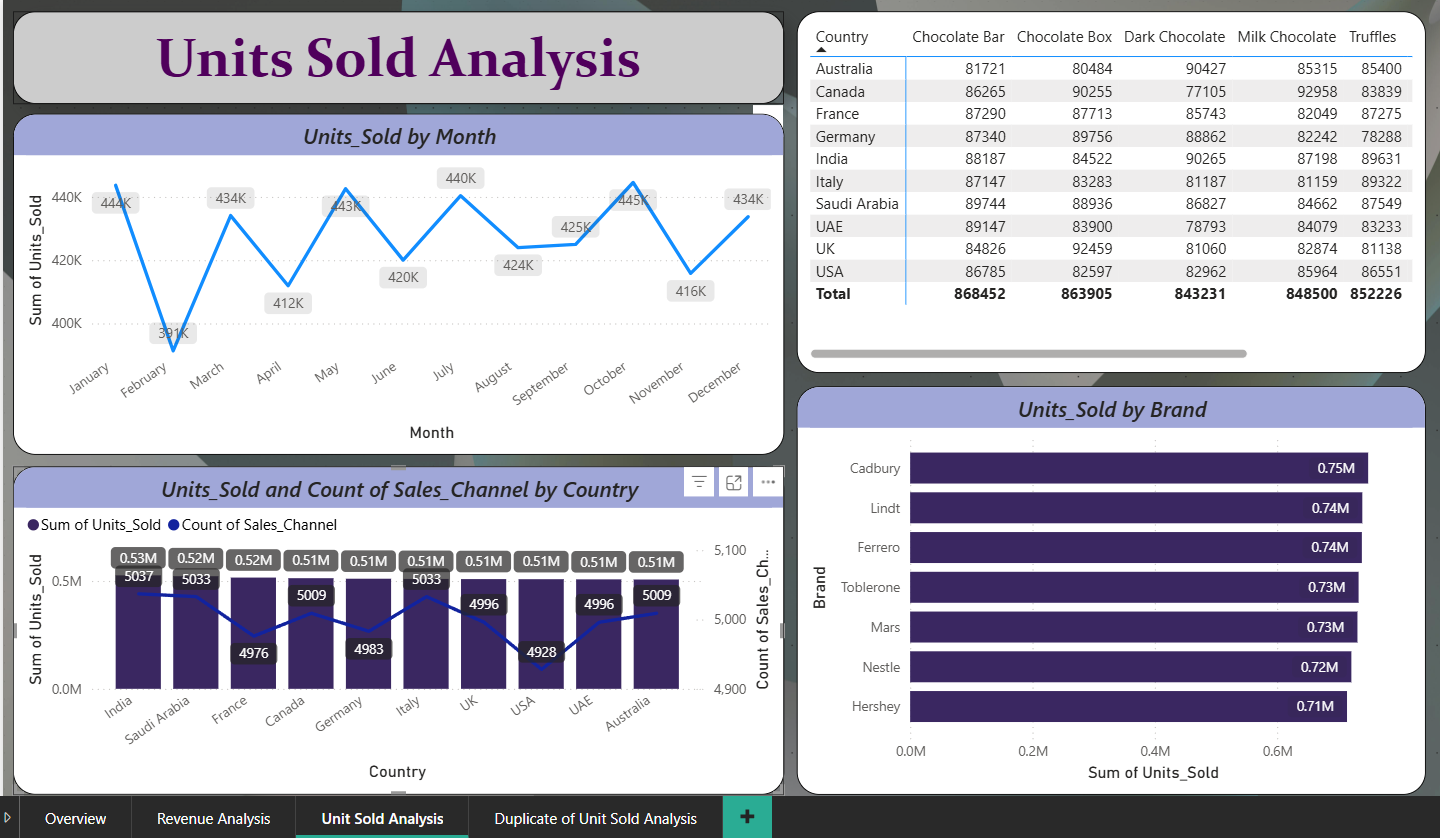

The page's visual inventory and layout, read from the dashboard file:
{"tool":"powerbi","page":{"name":"Unit Sold Analysis","canvas":[1280,720],"ordinal":2},"visuals":[{"type":"textbox","box":[8.6,9.8,685.5,82.5],"z":0},{"type":"barChart","title":"Units_Sold by Brand","fields":{"Category":["chocolate_sales_50000.Brand"],"Y":["Sum(chocolate_sales_50000.Units_Sold)"]},"box":[705.4,343.7,559.3,363.1],"z":2000},{"type":"lineChart","title":"Units_Sold by Month","fields":{"Y":["Sum(chocolate_sales_50000.Units_Sold)"],"Category":["chocolate_sales_50000.Date.Variation.Date Hierarchy.Month"]},"box":[8.3,101.6,685.9,303.3],"z":3000},{"type":"lineStackedColumnComboChart","title":"Units_Sold and Count of Sales_Channel by Country","fields":{"Category":["chocolate_sales_50000.Country"],"Y":["Sum(chocolate_sales_50000.Units_Sold)"],"Y2":["CountNonNull(chocolate_sales_50000.Sales_Channel)"]},"box":[8.3,414.6,685.9,292.2],"z":4000},{"type":"pivotTable","fields":{"Rows":["chocolate_sales_50000.Country"],"Columns":["chocolate_sales_50000.Product_Type"],"Values":["Sum(chocolate_sales_50000.Units_Sold)"]},"box":[705.4,9.7,559.3,321.4],"z":5000}]}

Visuals, with their boxes on the page's 1280x720 design canvas (x1, y1, x2, y2). These are canvas units, not pixel positions in the 1440x838 screenshot, which may show the page scaled, cropped or inside an application window:
textbox: 9,10,694,92
"Units_Sold by Brand" barChart: 705,344,1265,707
"Units_Sold by Month" lineChart: 8,102,694,405
"Units_Sold and Count of Sales_Channel by Country" lineStackedColumnComboChart: 8,415,694,707
pivotTable - chocolate_sales_50000.Country x chocolate_sales_50000.Product_Type: 705,10,1265,331
